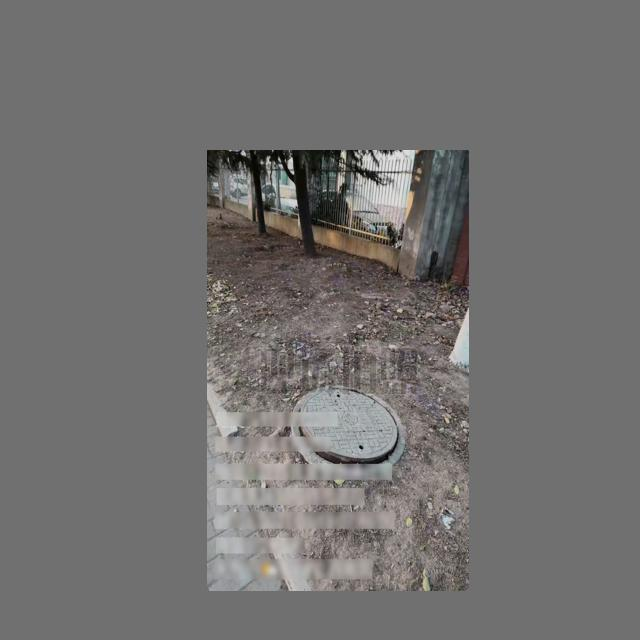uncovered: (291, 384, 404, 478)
